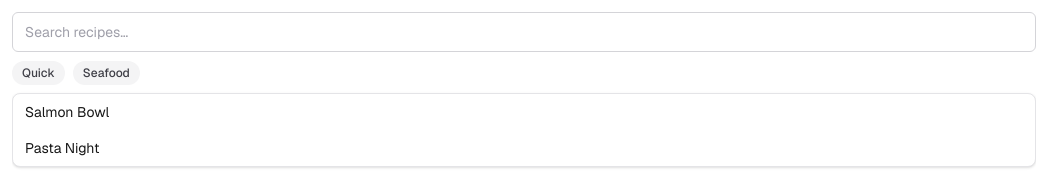
Scenario: RecipePicker › shows the empty state when nothing matches
Step 1. Type "zzz" into the field with test id "recipe-picker-search" → (524, 32), box [12,12,1036,52]
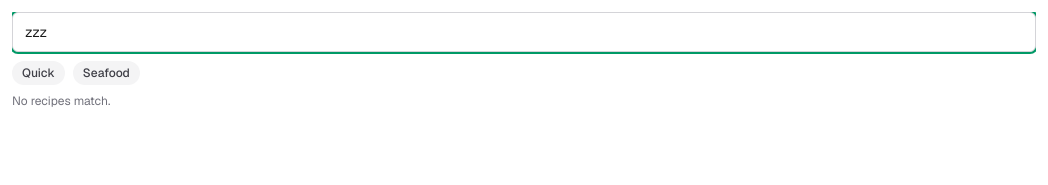
Result: the text "No recipes match." is shown at [12,93,110,109]
